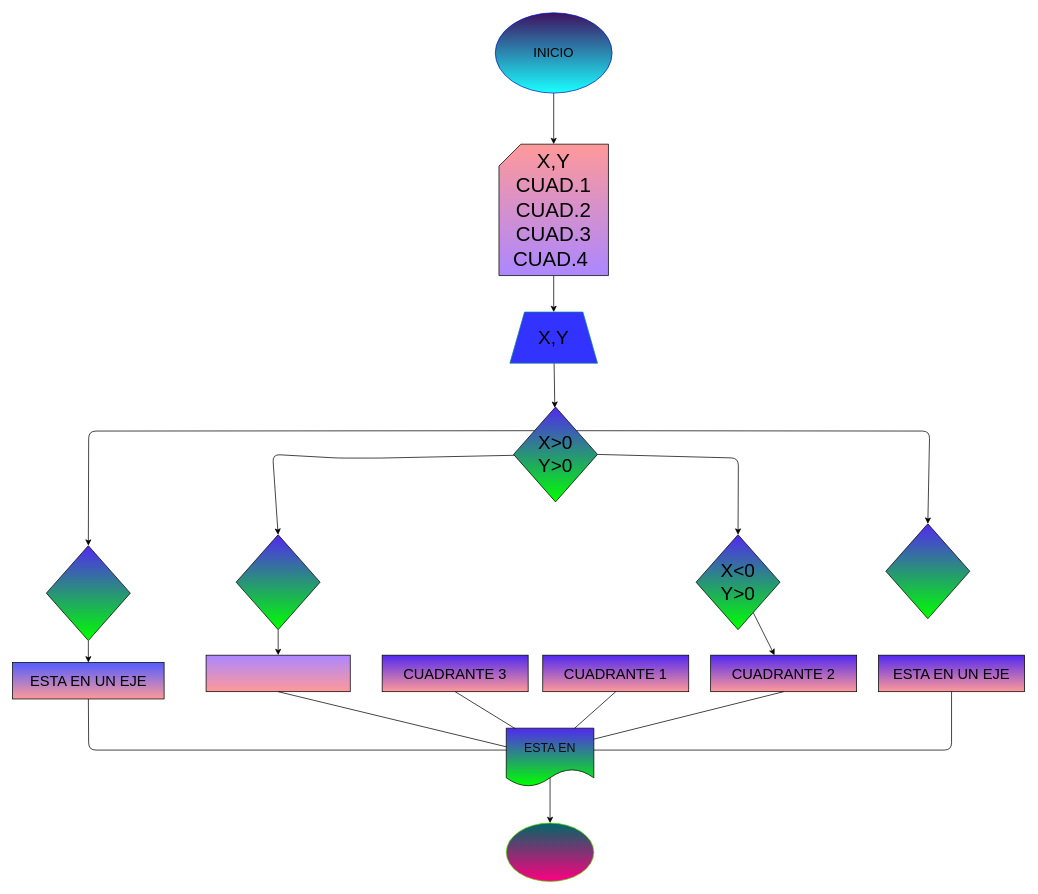
Image size: 1038x894. Some labels were removed from this diagram. The centre of each missing label's shape, as x and y in pixels:
"CUADRANTE 4" belongs at point 277,673.
"FIN" belongs at point 550,851.
"X=0" belongs at point 88,593.
"X>0 Y<0" belongs at point 277,582.
"Y=0" belongs at point 927,571.
